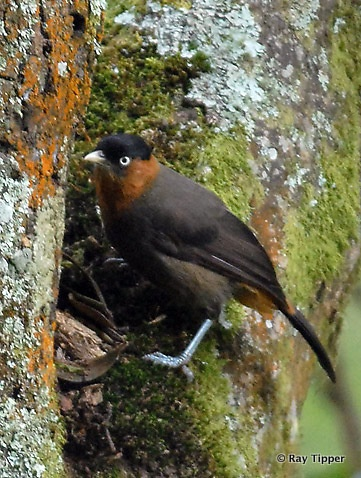bird: (78, 128, 344, 388)
